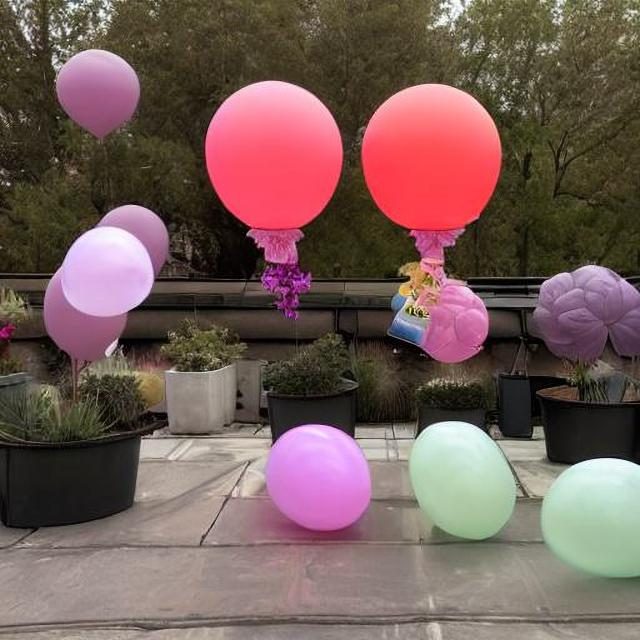balloon: (356, 80, 502, 362), (201, 78, 349, 293), (43, 201, 174, 360), (408, 418, 517, 542), (254, 422, 372, 536), (536, 455, 640, 583), (532, 260, 640, 378), (49, 45, 142, 142)
